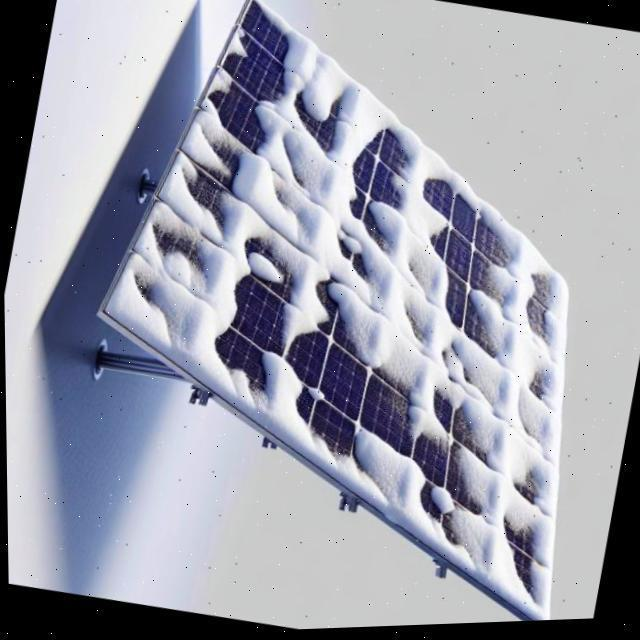Anomaly Solar Panel: (101, 0, 568, 625)
Snow: (76, 157, 441, 509), (400, 157, 574, 627), (320, 133, 490, 407), (289, 276, 486, 463), (325, 425, 523, 595), (223, 0, 360, 210), (222, 155, 396, 306), (150, 69, 289, 246), (278, 84, 417, 229), (435, 448, 523, 529), (426, 486, 454, 520), (225, 26, 251, 60)
